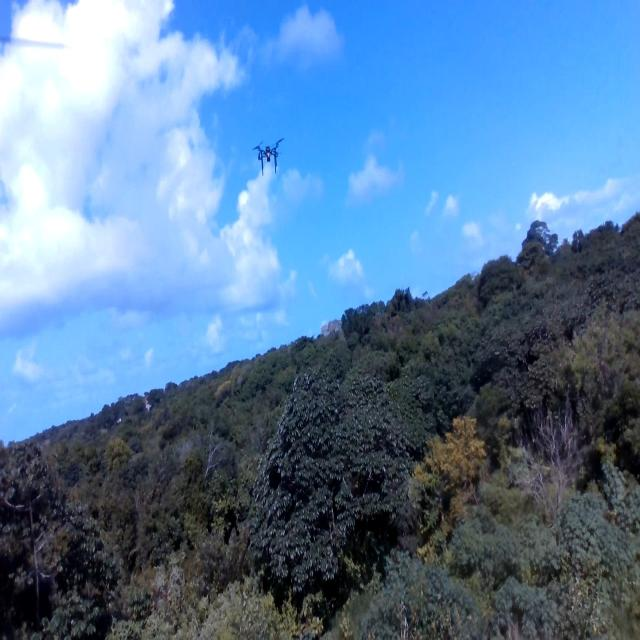-uav-: (250, 130, 289, 178)
